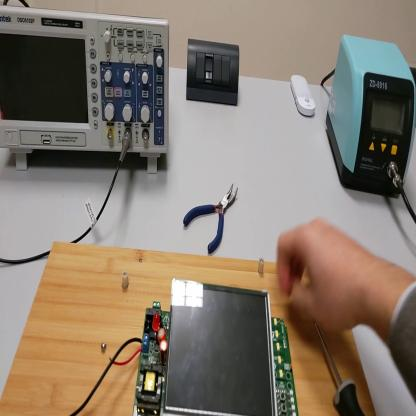hand: (277, 217, 375, 338)
low voltage board: (71, 280, 299, 416)
oscilloscope: (2, 5, 171, 178)
pliers: (183, 183, 241, 257)
screwdriver-: (311, 322, 364, 415)
welder station: (325, 32, 415, 200)
working area: (1, 237, 378, 413)
